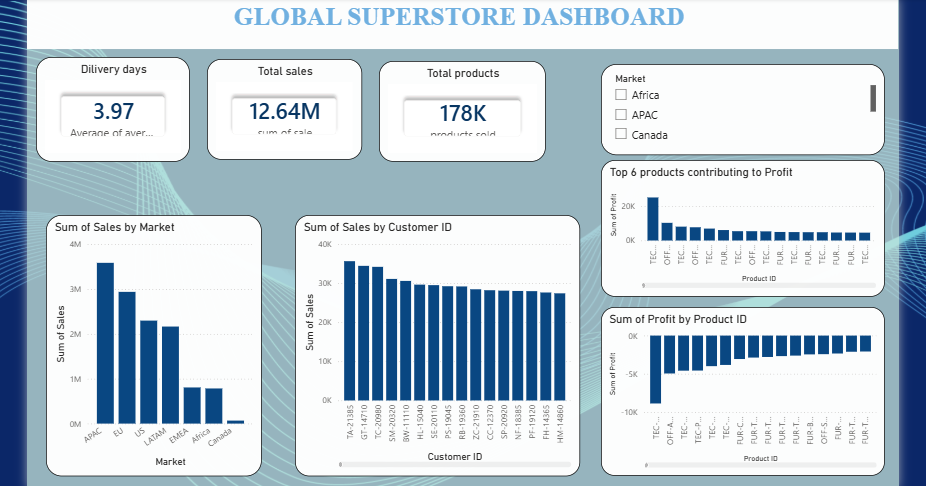

The page's visual inventory and layout, read from the dashboard file:
{"tool":"powerbi","page":{"name":"Page 1","canvas":[1280,720],"ordinal":0},"visuals":[{"type":"cardVisual","title":"Total sales ","fields":{"Data":["Globa superstore.sum of sale"]},"box":[264.5,89.6,227.8,148.4],"z":0},{"type":"cardVisual","title":"Total products ","fields":{"Data":["Globa superstore.products sold"]},"box":[517.2,92.6,245.4,148.4],"z":1000},{"type":"cardVisual","title":"Dilivery days ","fields":{"Data":["Avg(Globa superstore.average dilivery days)"]},"box":[13.2,86.7,226.3,154.3],"z":1001},{"type":"columnChart","fields":{"Y":["Sum(Globa superstore.Sales)"],"Category":["Globa superstore.Market"]},"box":[27.9,318.9,317.4,383.5],"z":1002},{"type":"columnChart","fields":{"Category":["Globa superstore.Customer ID"],"Y":["Sum(Globa superstore.Sales)"]},"box":[393.8,318.9,418.8,383.5],"z":1003},{"type":"columnChart","title":"Top 6 products contributing to Profit ","fields":{"Category":["Globa superstore.Product ID"],"Y":["Sum(Globa superstore.Profit)"]},"box":[843.4,238,417.3,201.3],"z":1004},{"type":"columnChart","fields":{"Y":["Sum(Globa superstore.Profit)"],"Category":["Globa superstore.Product ID"]},"box":[843.4,454,417.3,248.3],"z":1005},{"type":"textbox","box":[0,0,1279.8,74.9],"z":1006},{"type":"slicer","fields":{"Values":["Globa superstore.Market"]},"box":[843.4,97,417.3,133.7],"z":1007}]}

Visuals, with their boxes in screenshot pixels (x1, y1, x2, y2):
"Total sales " cardVisual: (205, 57, 362, 160)
"Total products " cardVisual: (379, 59, 549, 162)
"Dilivery days " cardVisual: (31, 55, 187, 162)
columnChart - Sum(Globa superstore.Sales) x Globa superstore.Market: (41, 216, 261, 481)
columnChart - Globa superstore.Customer ID x Sum(Globa superstore.Sales): (294, 216, 584, 481)
"Top 6 products contributing to Profit " columnChart: (605, 160, 894, 299)
columnChart - Sum(Globa superstore.Profit) x Globa superstore.Product ID: (605, 309, 894, 481)
textbox: (22, 0, 907, 47)
slicer - Globa superstore.Market: (605, 62, 894, 155)
